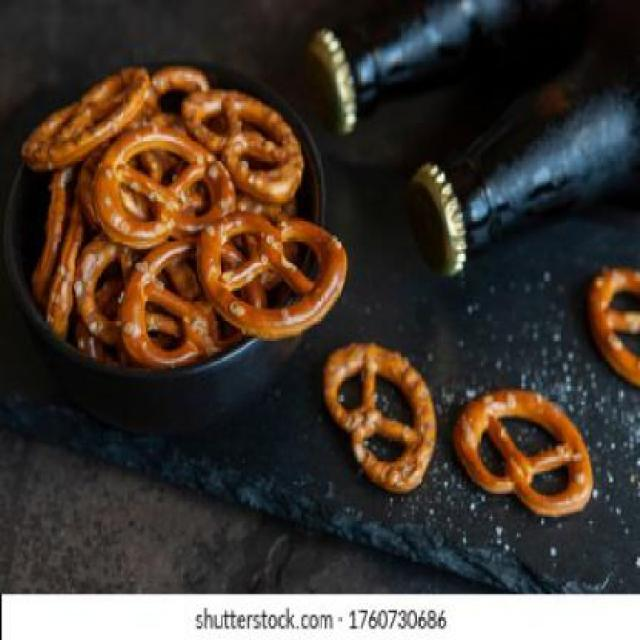Salatini packaged: (19, 62, 348, 358), (452, 384, 598, 526), (322, 343, 438, 494)
